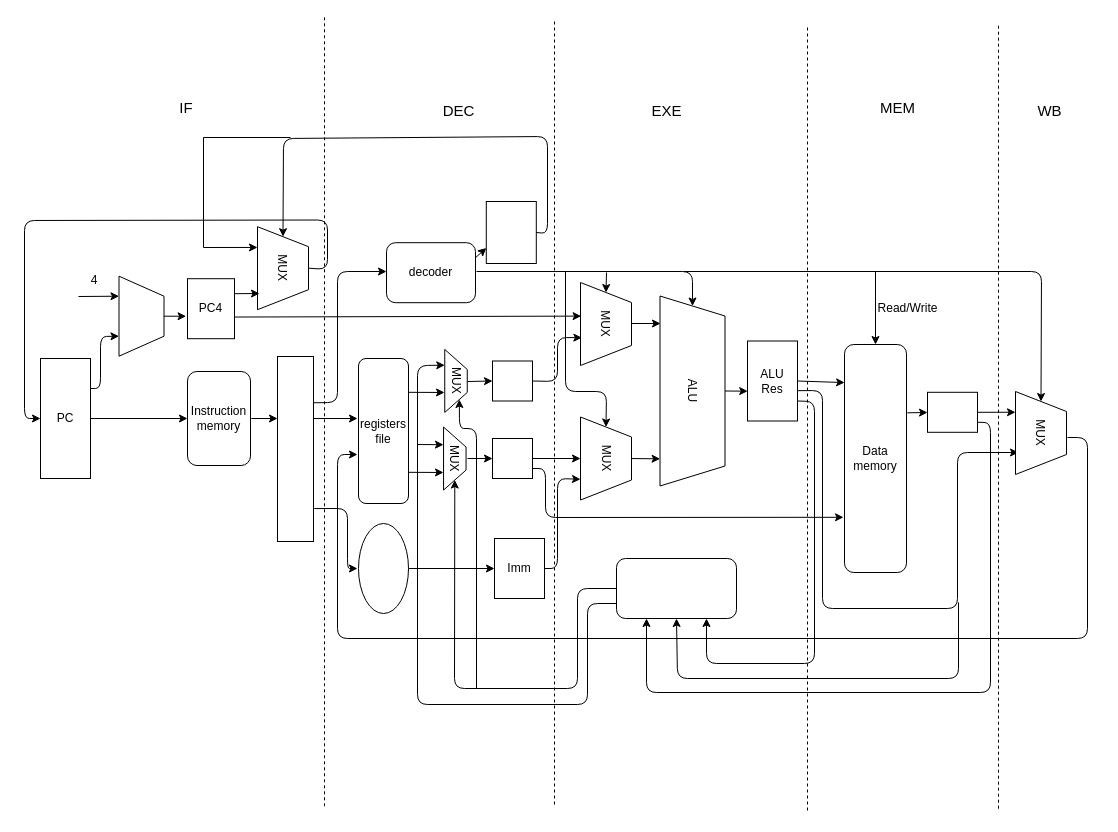
This 1118x832 diagram has some shape labels left out. Each missing label, with the centre of its shape:
"ADD" belongs at pixel 141 315.
"branch" belongs at pixel 510 232.
"Data" belongs at pixel 952 411.
"Forwading" belongs at pixel 676 588.
"inst" belongs at pixel 295 449.
"rs1" belongs at pixel 512 380.
"rs2" belongs at pixel 512 458.
"Sign extend" belongs at pixel 383 568.
